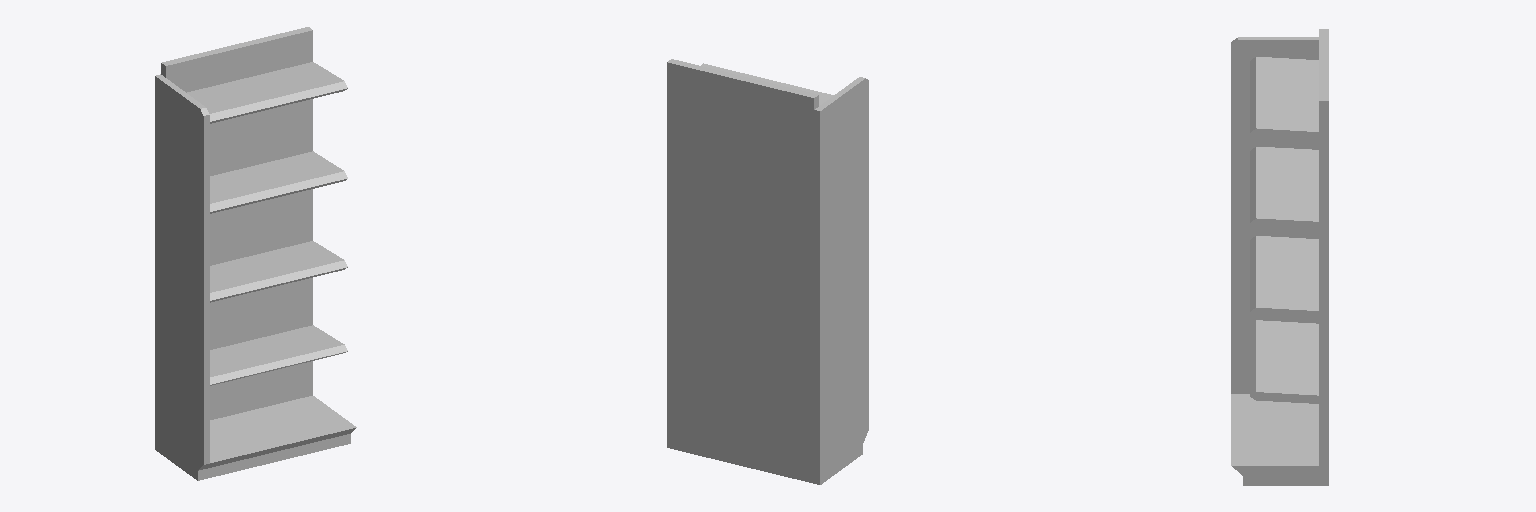
Rendered from GeneralShelves(EndLeft).obj.
The picture shows the model from 3 angles: view 1: azimuth 30°, elevation 25°; view 2: azimuth 150°, elevation 25°; view 3: azimuth 270°, elevation 25°; orthographic projection.
Parts seen in each view (by area): view 1: EndLeft; view 2: EndLeft; view 3: EndLeft.
Boxes of the visible parts, x1=… form: EndLeft: x1=155, y1=27, x2=356, y2=480; EndLeft: x1=667, y1=59, x2=868, y2=484; EndLeft: x1=1231, y1=29, x2=1328, y2=485.
Size of the model in its own units: 3.87 by 9.3 by 2.13.